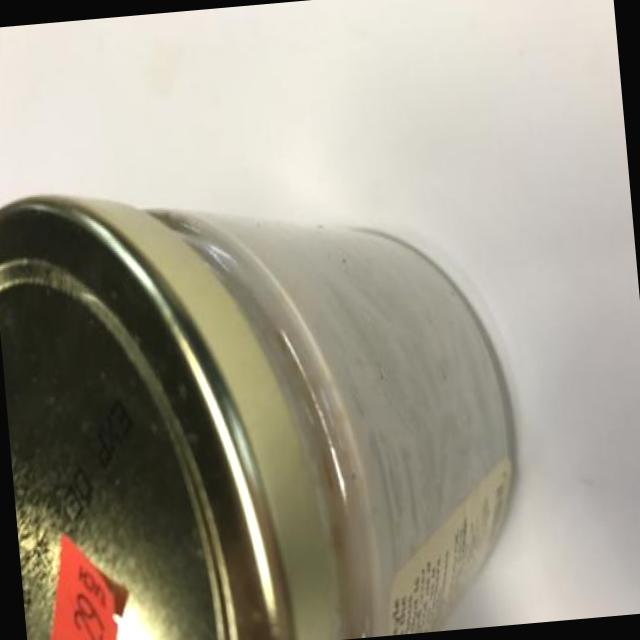chai_thuy_tinh: (194, 221, 511, 639)
nhom: (0, 197, 345, 640)
